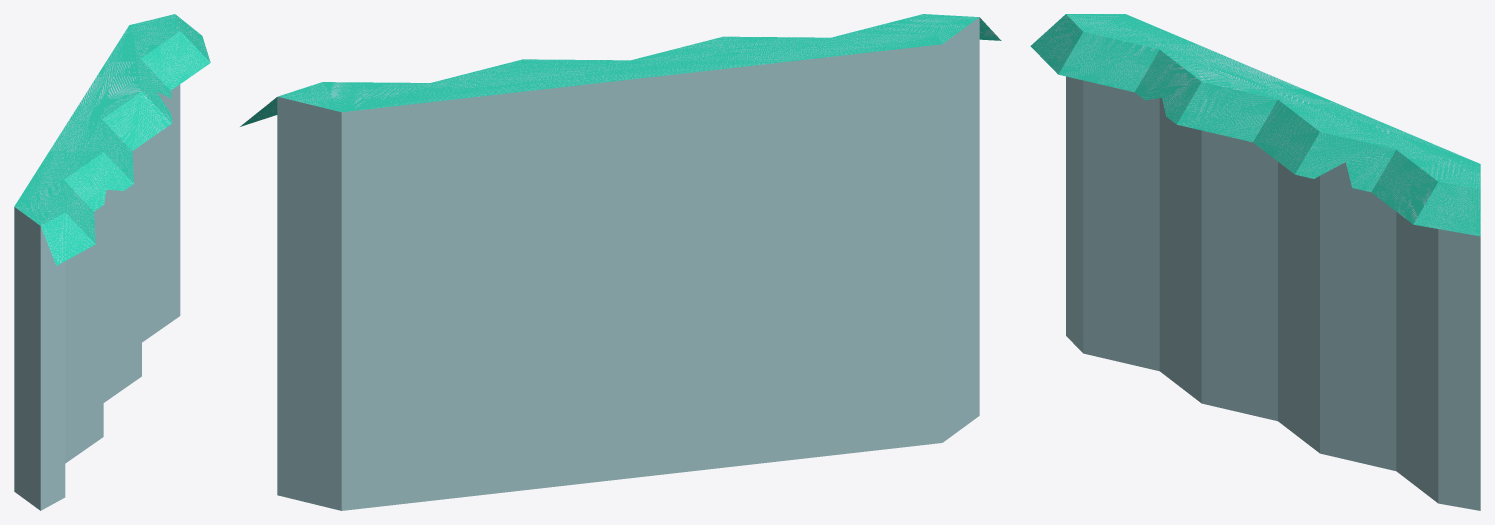
Rendered from cliff_topDiagonal_stone.dae.
The picture shows the model from 3 angles, left to right: view 1: azimuth 30°, elevation 25°; view 2: azimuth 150°, elevation 25°; view 3: azimuth 270°, elevation 25°; orthographic projection. The views are drawn at different scales.
Visible parts, largest first — view 1: cliff_topDiagonal_stone; view 2: cliff_topDiagonal_stone; view 3: cliff_topDiagonal_stone.
Boxes of the visible parts, x1,y1,x2,y2 form: cliff_topDiagonal_stone: [14, 14, 210, 510]; cliff_topDiagonal_stone: [240, 14, 1001, 510]; cliff_topDiagonal_stone: [1030, 14, 1480, 510].
Bounding box in the file's own units: 1.27 × 1 × 1.27.
